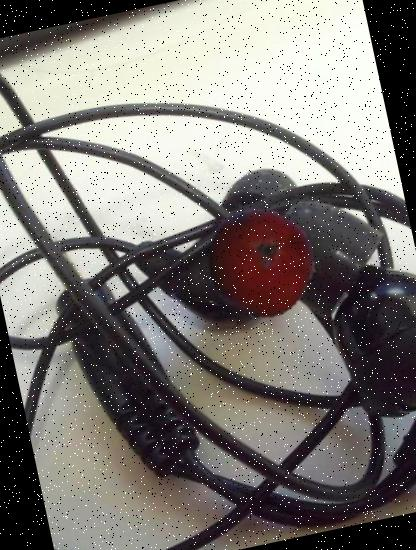Pomegranate: (195, 199, 324, 327)
